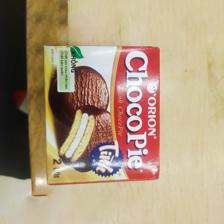Chocopie: (41, 43, 164, 184)
